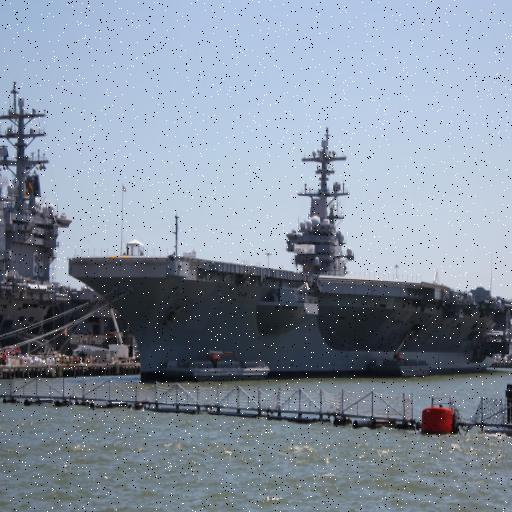Portanaves: (59, 126, 512, 387)
